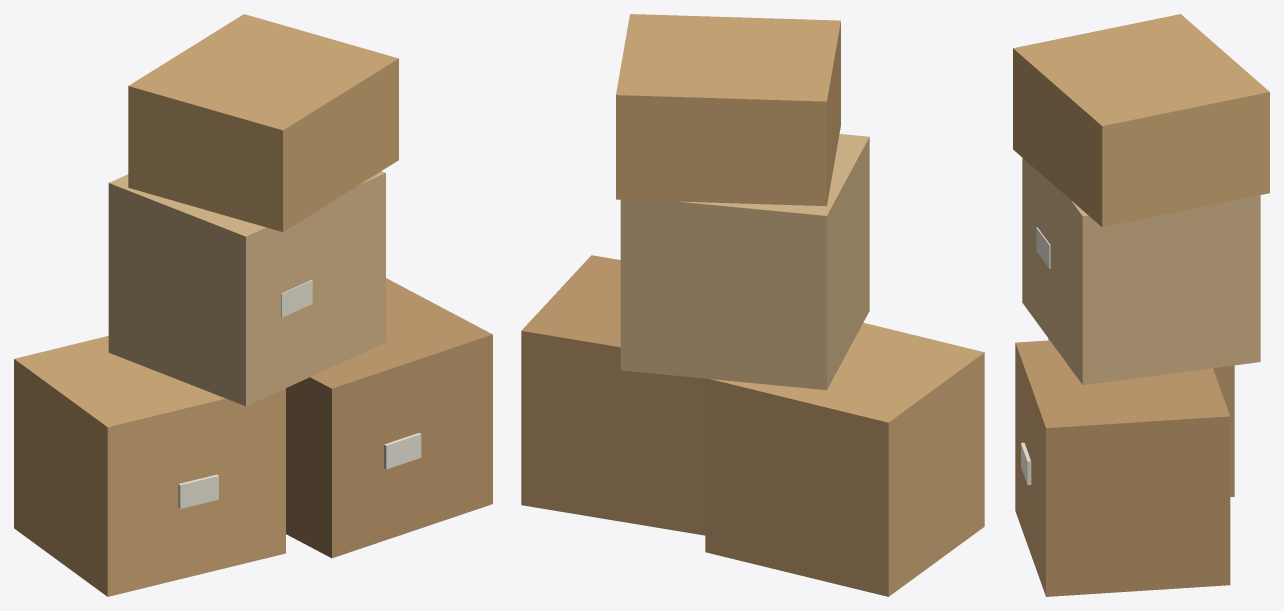
File: pawn_boxes.glb
3 renders of one model, left to right at view 1: azimuth 30°, elevation 25°; view 2: azimuth 150°, elevation 25°; view 3: azimuth 270°, elevation 25°, orthographic. The views are drawn at different scales.
Parts seen in each view (by area): view 1: box, ticket_pawn_tag (×3); view 2: box; view 3: box, ticket_pawn_tag.
Part boxes in pixels (box(x1,y1,x2,y2)): box: box(14, 14, 492, 596); ticket_pawn_tag (×3): box(178, 280, 421, 508); box: box(521, 14, 984, 596); box: box(1013, 14, 1269, 596); ticket_pawn_tag: box(1036, 227, 1050, 268).
Bounding box in the file's own units: 1.18 × 1.3 × 0.6895.
